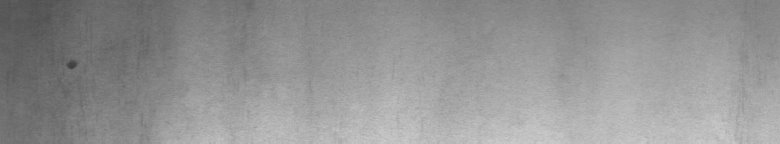fi: (63, 54, 80, 95)
